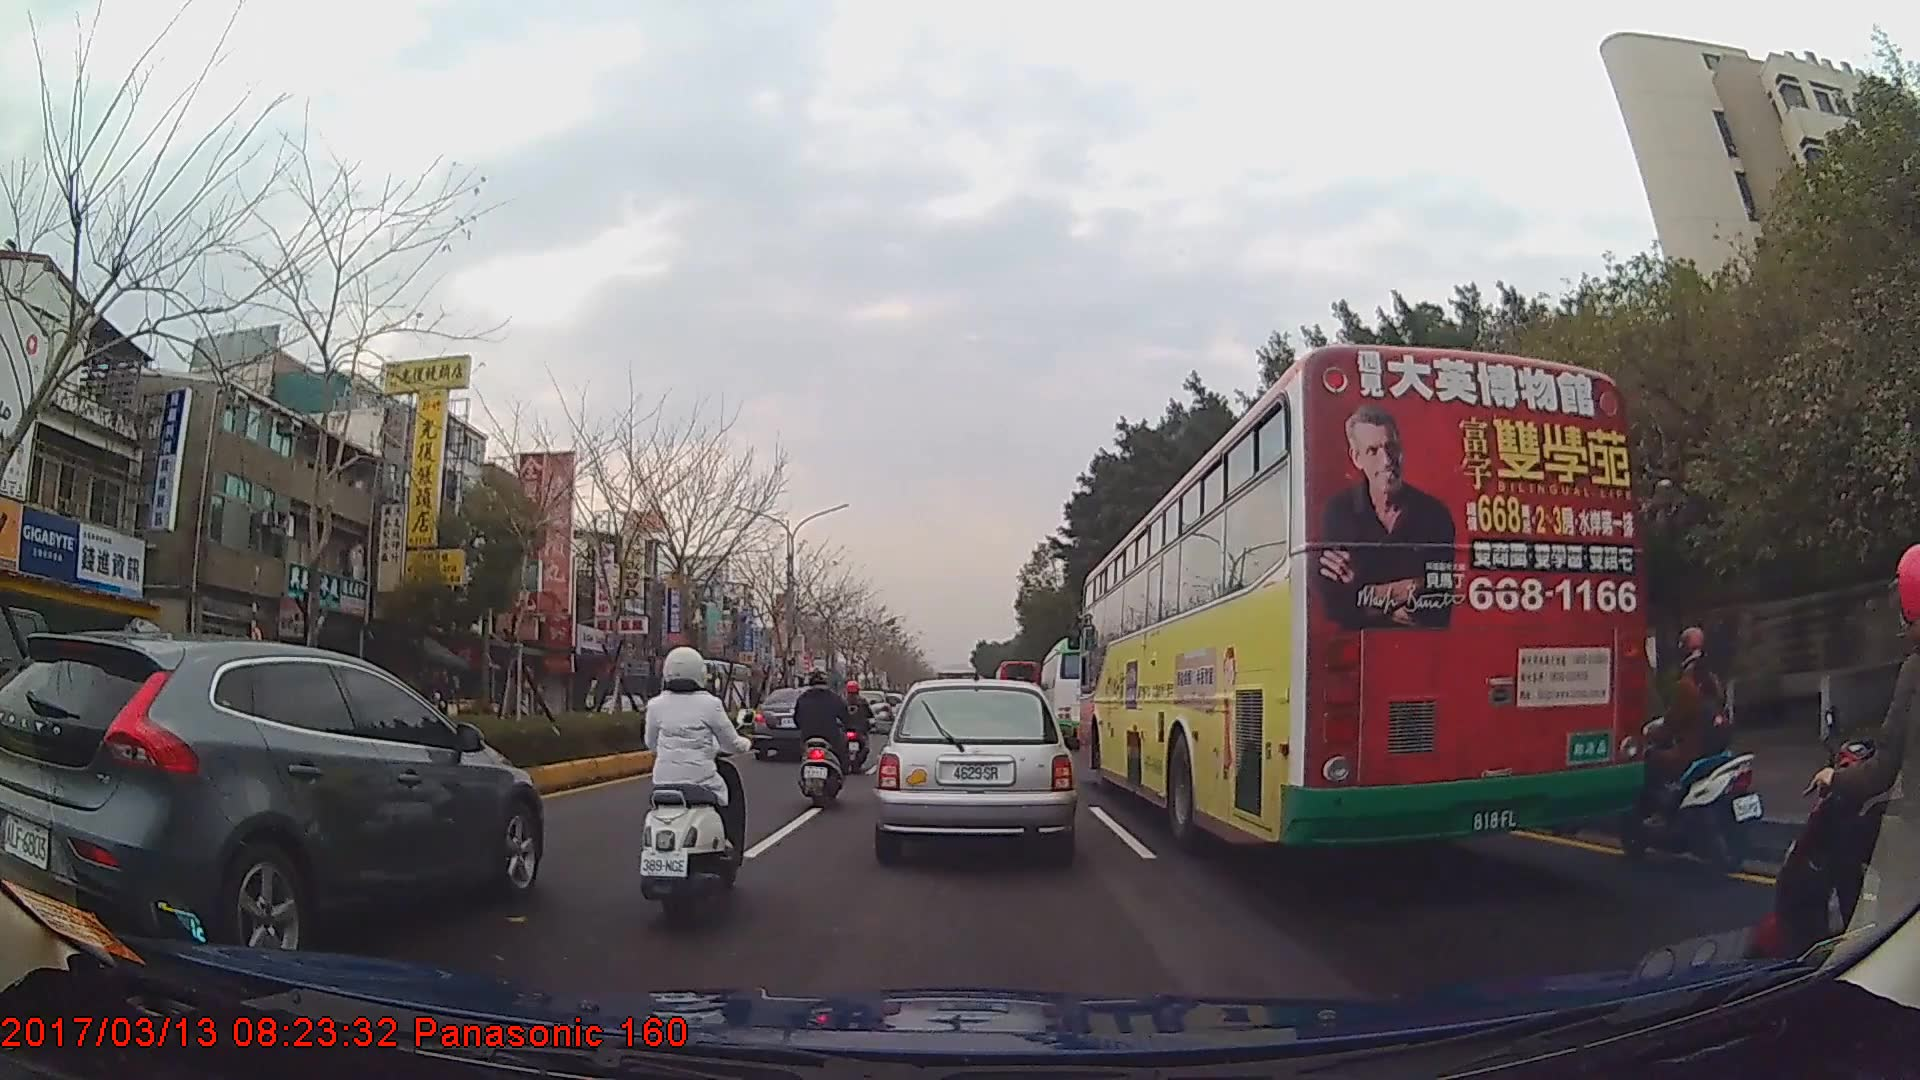rider: (1741, 543, 1920, 1023), (1623, 625, 1766, 874), (638, 645, 757, 934), (790, 669, 848, 810), (837, 681, 874, 773)
vehicle: (1081, 341, 1649, 860), (0, 632, 545, 965), (876, 675, 1074, 863), (1036, 639, 1126, 751), (753, 686, 854, 764), (687, 659, 753, 725)
